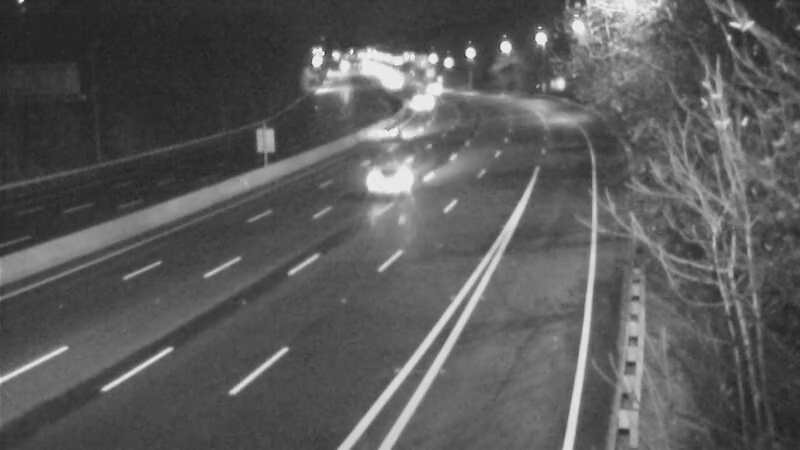vehicle: (358, 138, 438, 218), (398, 74, 448, 124), (363, 111, 413, 161)
